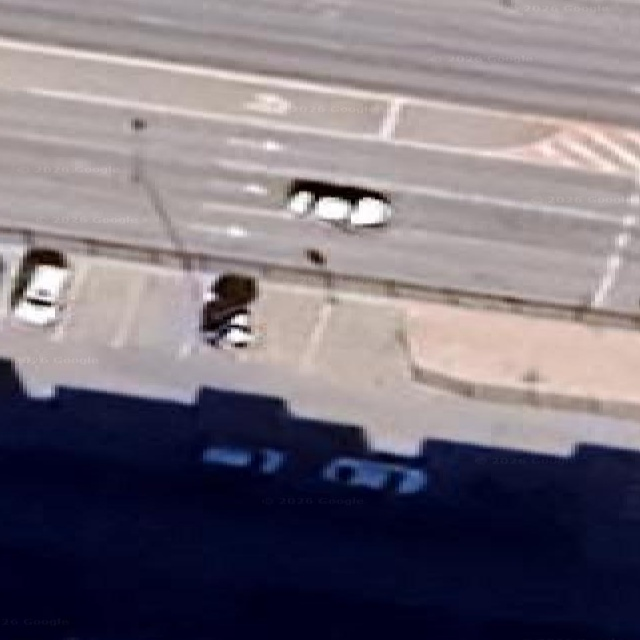car: (287, 180, 391, 227), (12, 248, 70, 326), (200, 273, 256, 347), (323, 456, 426, 493), (13, 264, 67, 322), (200, 446, 284, 473), (200, 308, 253, 347), (350, 196, 388, 226), (313, 196, 351, 220), (287, 191, 313, 215)
